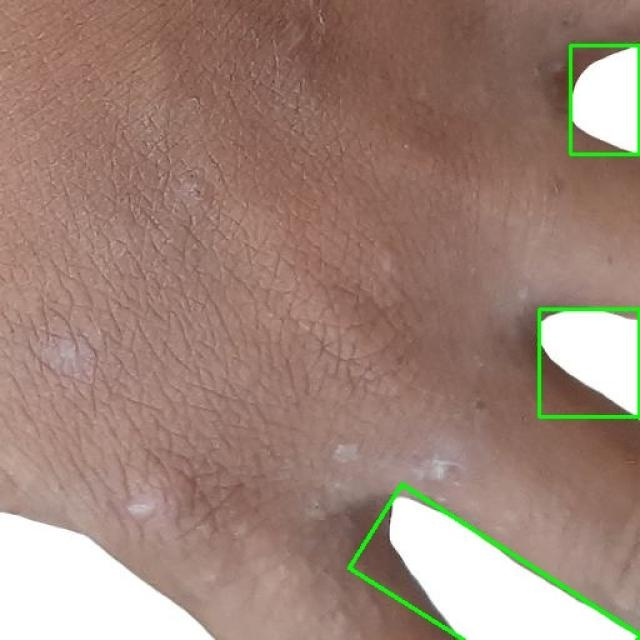Scabies: (349, 485, 640, 640), (539, 309, 639, 416), (570, 45, 639, 154)
